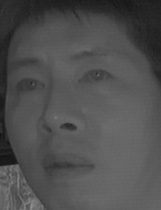eye: (75, 66, 118, 90), (11, 75, 46, 97)
mouth: (38, 147, 96, 183)
